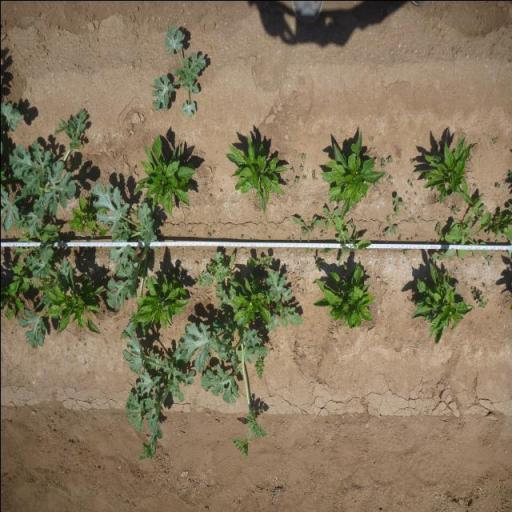plant: (318, 130, 383, 219), (131, 133, 197, 218), (222, 131, 288, 215), (409, 263, 470, 345), (311, 261, 375, 330), (415, 130, 473, 204), (129, 266, 191, 331), (45, 268, 102, 336), (229, 276, 271, 322), (67, 191, 106, 235), (0, 278, 24, 322)
weed: (116, 248, 307, 462), (0, 96, 88, 237), (91, 181, 160, 320), (148, 23, 210, 120), (18, 248, 72, 353), (443, 189, 492, 259), (318, 214, 372, 267), (13, 219, 63, 255), (9, 257, 53, 291), (290, 214, 316, 254), (486, 209, 512, 243), (314, 203, 339, 231), (246, 254, 272, 270), (428, 248, 454, 262), (470, 288, 486, 306), (391, 194, 404, 216), (312, 255, 325, 273), (432, 222, 444, 240), (384, 222, 398, 234), (484, 255, 494, 266), (450, 205, 460, 215), (345, 219, 354, 230), (385, 154, 393, 164), (310, 168, 316, 181), (84, 165, 92, 174), (396, 232, 402, 242), (407, 178, 413, 188), (482, 280, 488, 290), (288, 165, 295, 173), (293, 175, 300, 183), (298, 162, 304, 171), (301, 152, 307, 160), (494, 181, 500, 189), (491, 136, 497, 144), (378, 232, 385, 238), (380, 158, 384, 168), (507, 170, 512, 178), (301, 174, 306, 180), (284, 178, 288, 185), (342, 264, 346, 271), (239, 233, 244, 238), (388, 174, 392, 180), (402, 250, 406, 256), (386, 215, 389, 222), (206, 232, 210, 237), (208, 194, 211, 198), (212, 228, 214, 234), (320, 230, 322, 236), (410, 157, 412, 162)
